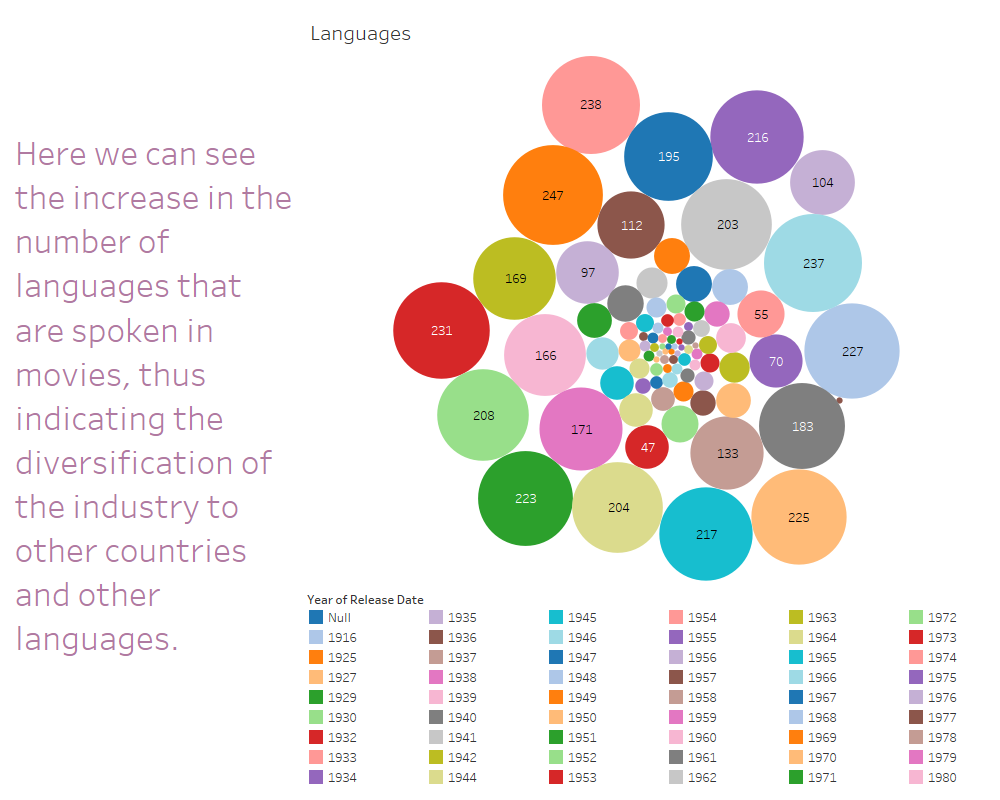

The page's visual inventory and layout, read from the dashboard file:
{"tool":"tableau","page":{"name":"Languages D","canvas":[1000,800],"ordinal":5},"visuals":[{"type":"text","box":[8,8,294,784]},{"type":"worksheet","title":"Languages","mark":"Circle","box":[302,8,690,577]},{"type":"legend","title":"Languages","param":"[federated.1e6j1xd0wxnyjd10rs99603utfgw].[tyr:release_date:ok]","box":[302,585,690,207]}]}

Visuals, with their boxes in screenshot pixels (x1, y1, x2, y2), scaled from the page's 1000x800 canvas onto the 1000x800 screenshot:
text: (x1=8, y1=8, x2=302, y2=792)
"Languages" worksheet (Circle marks): (x1=302, y1=8, x2=992, y2=585)
"Languages" legend: (x1=302, y1=585, x2=992, y2=792)
